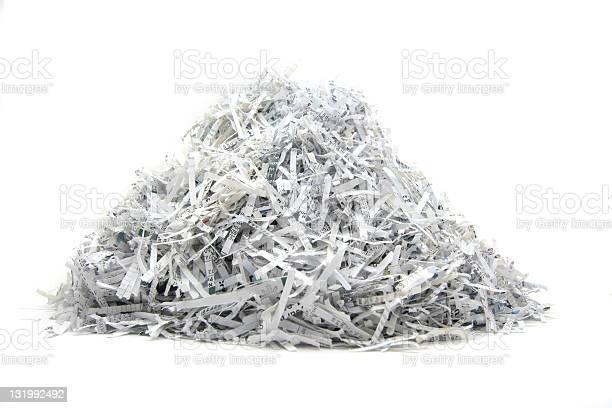paper: (53, 49, 553, 351)
